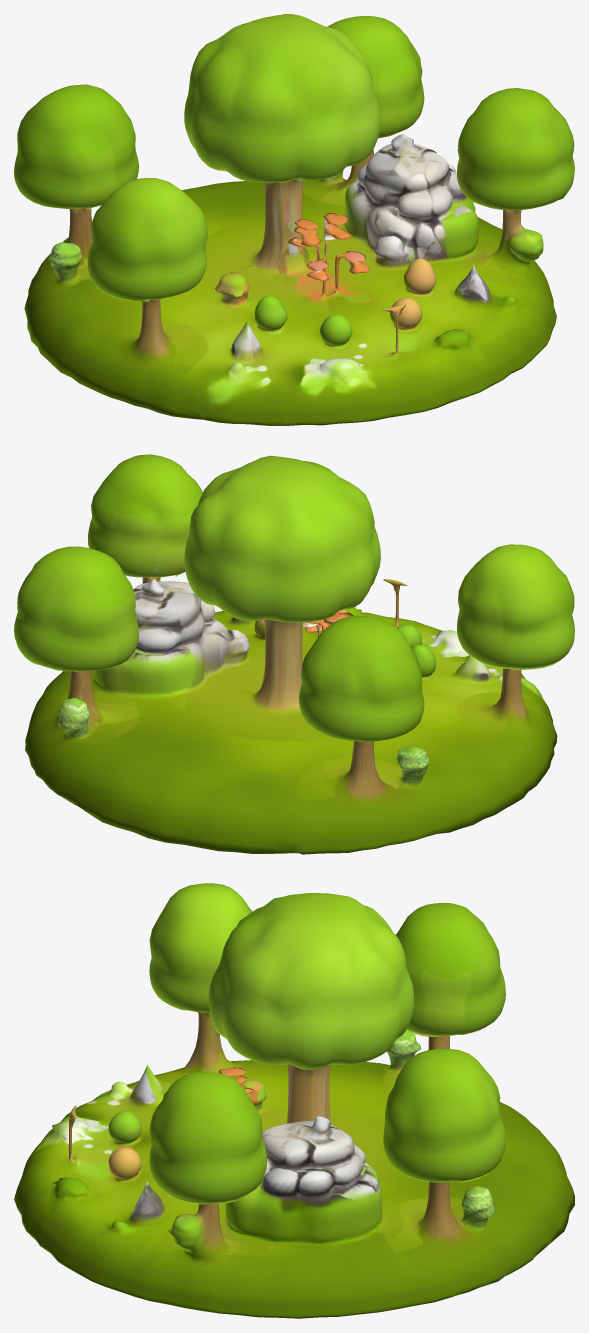
Rendered from clean-forest.glb.
3 renders of one model, top to bottom at view 1: azimuth 30°, elevation 25°; view 2: azimuth 150°, elevation 25°; view 3: azimuth 270°, elevation 25°, orthographic. The views are drawn at different scales.
Visible parts, largest first — view 1: model; view 2: model; view 3: model.
Boxes of the visible parts, x1,y1,x2,y2 form: model: (14,14,574,425); model: (14,454,574,854); model: (14,883,574,1318).
Bounding box in the file's own units: 1.9 × 1.08 × 1.85.
Materials: 1 (1 with a texture image).
